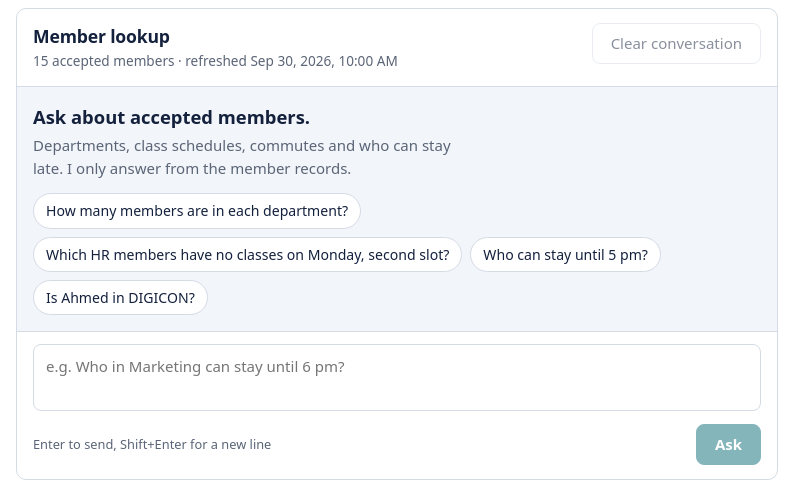
Test: MemberChat › renders spreadsheet text as plain text, never as HTML
The image size is (795, 497).
In the text box named "Ask a question about members": coordinates (397, 377) [33,344,761,411], type "x"
Then press Enter
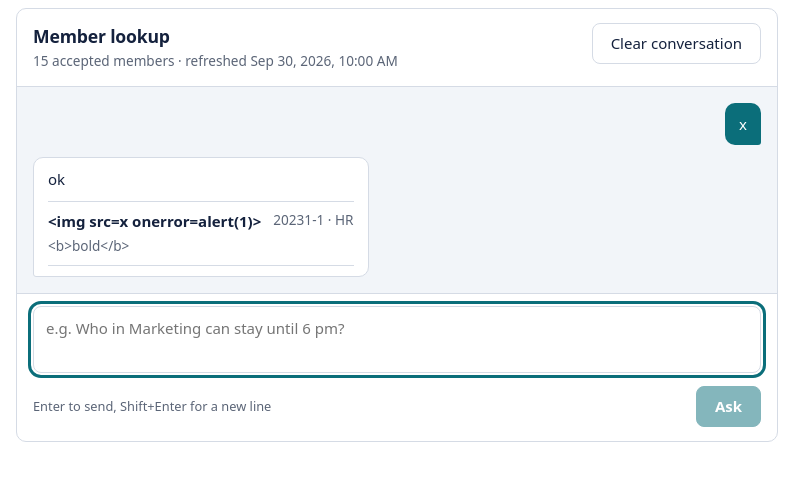
Expected: the text "<img src=x onerror=alert(1)>" is shown, [48,210,261,232]
